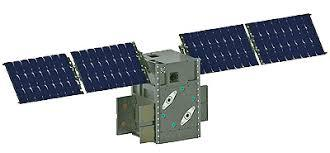body: (128, 46, 205, 147)
solar: (175, 6, 330, 77), (1, 38, 155, 107)
